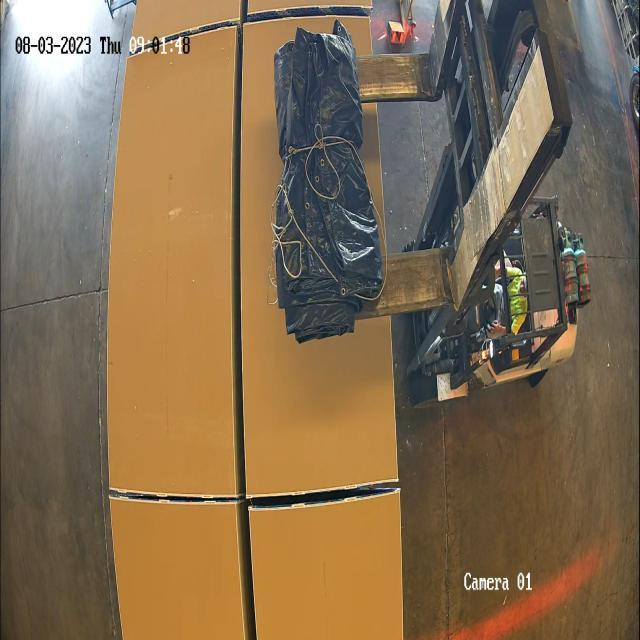driver: (486, 262, 529, 340)
forklift: (398, 2, 592, 420)
